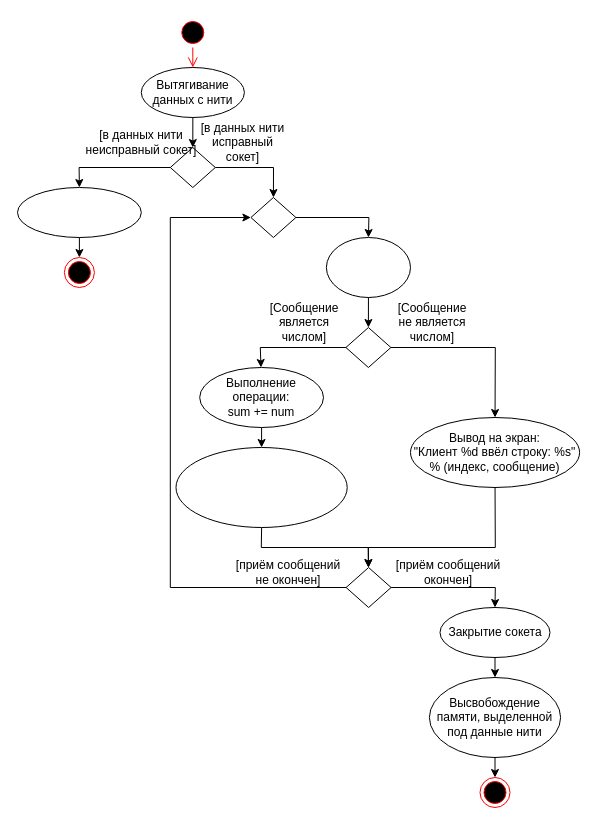
Some shapes in this 598 by 825 pixel diagram are drawn without their labels. The centre of each missing label's shape, as x and y in pixels:
Вывод на экран: "Клиент %d: %d\n Текущая сумма: %d" % (индекс, num, sum): the point at 261,487
Вывод сообщения об ошибке: the point at 78,212
Чтение сообщения клиента: the point at 367,267
